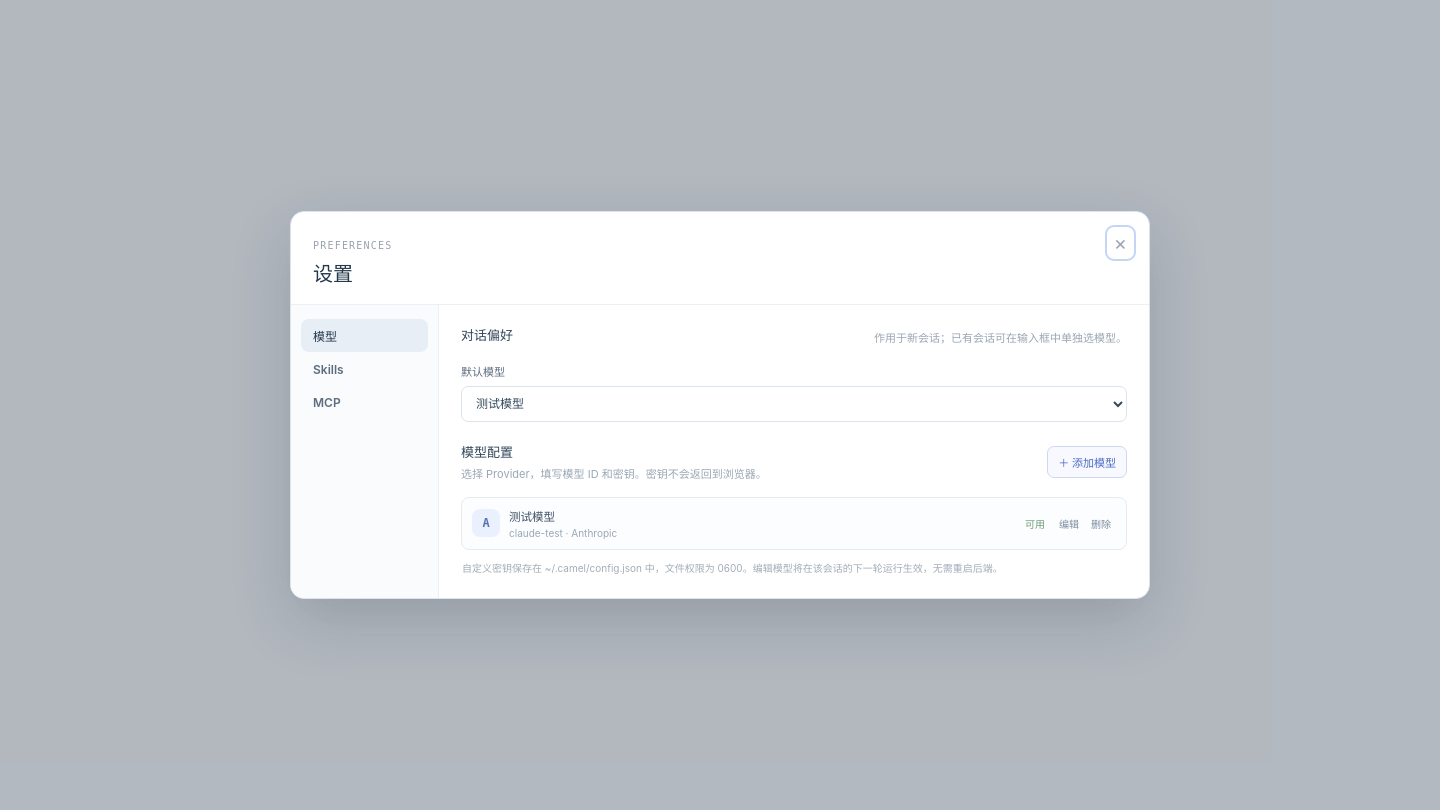
Test case: 默认展示模型面板并可切换到预留面板
expect the heading "对话偏好" is shown: met, box left=461, top=325, right=513, bottom=344
expect the text "此面板为预留入口" is not shown: met
Click the button "Skills".
click(364, 369)  # box left=301, top=354, right=428, bottom=385
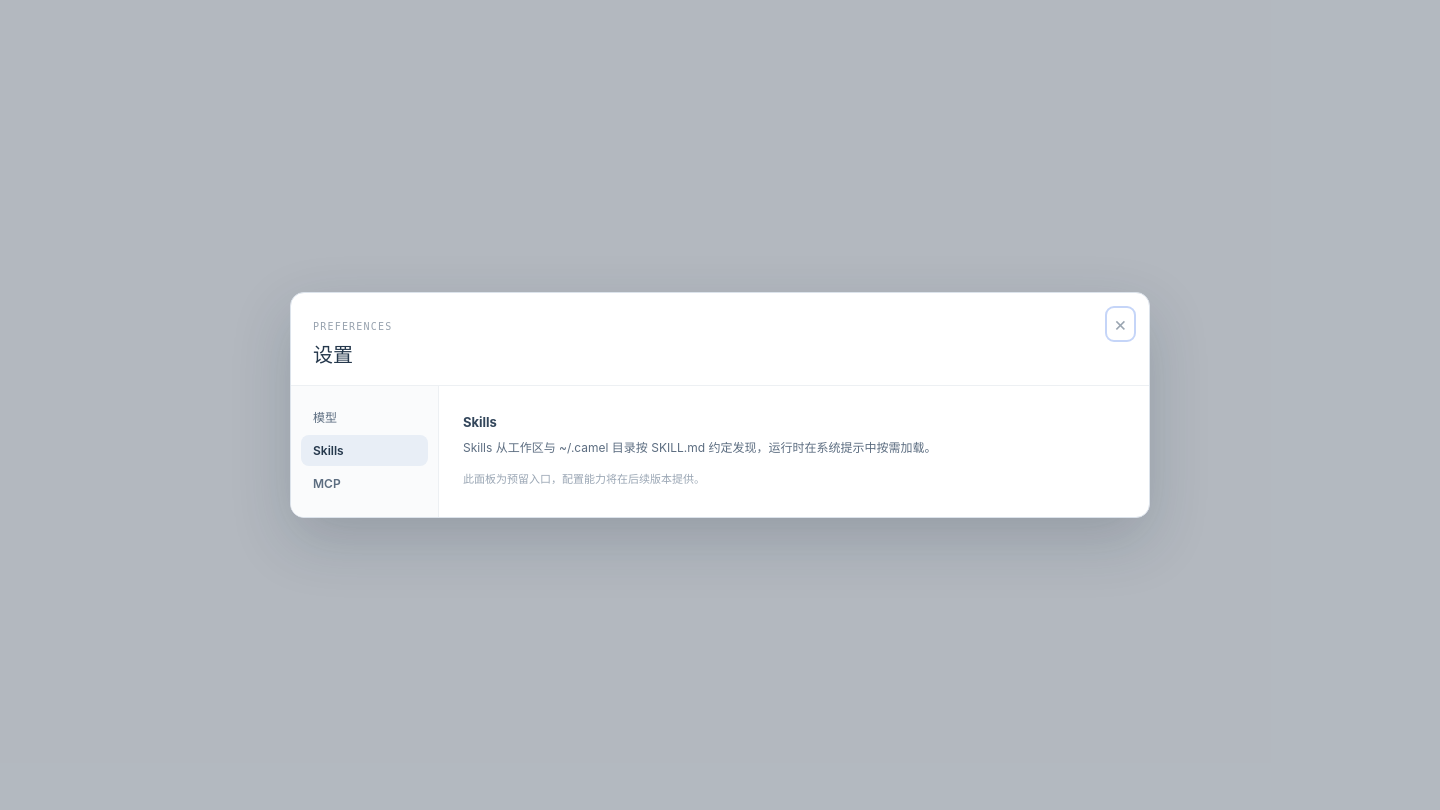
expect the text "Skills 从工作区与 ~/.camel 目录按 SKILL.md 约定发现，运行时在系统提示中按需加载。" is shown: met, box left=463, top=440, right=936, bottom=455
expect the heading "对话偏好" is gone: met
Click the button "MCP".
click(364, 484)  # box left=301, top=468, right=428, bottom=499
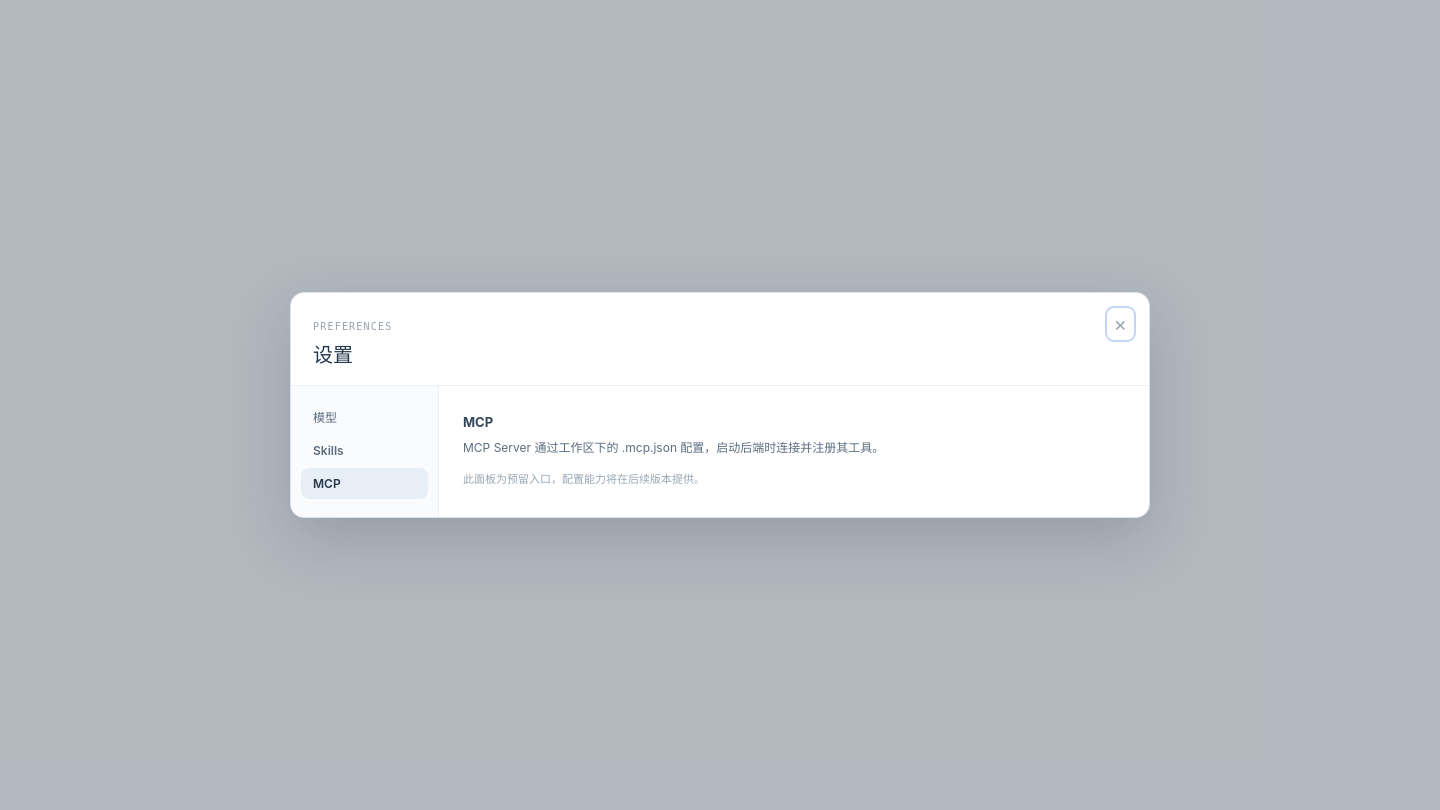
expect the text "MCP Server 通过工作区下的 .mcp.json 配置，启动后端时连接并注册其工具。" is shown: met, box left=463, top=440, right=884, bottom=455
Click the button "模型".
click(364, 417)  # box left=301, top=400, right=428, bottom=433
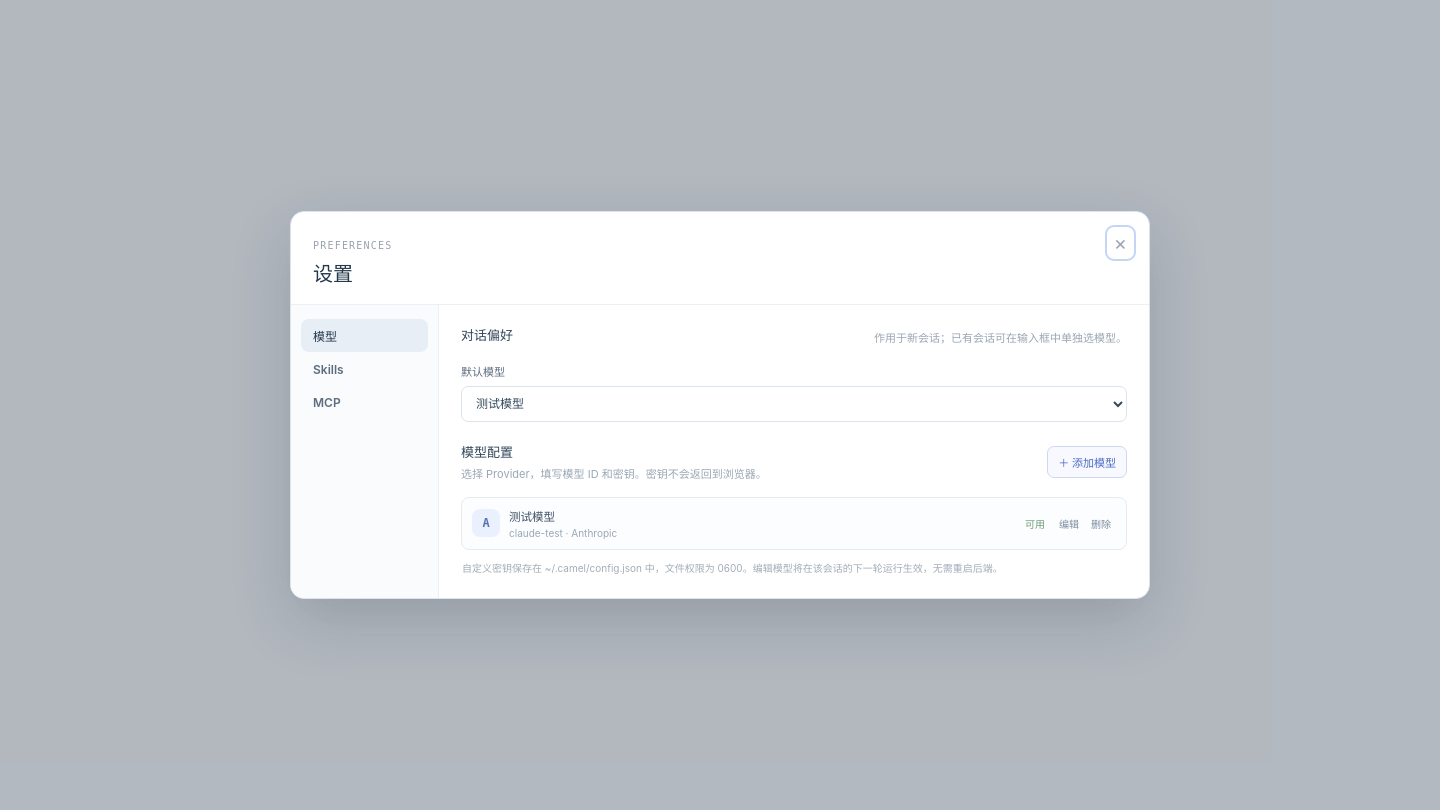
expect the heading "对话偏好" is shown: met, box left=461, top=325, right=513, bottom=344
